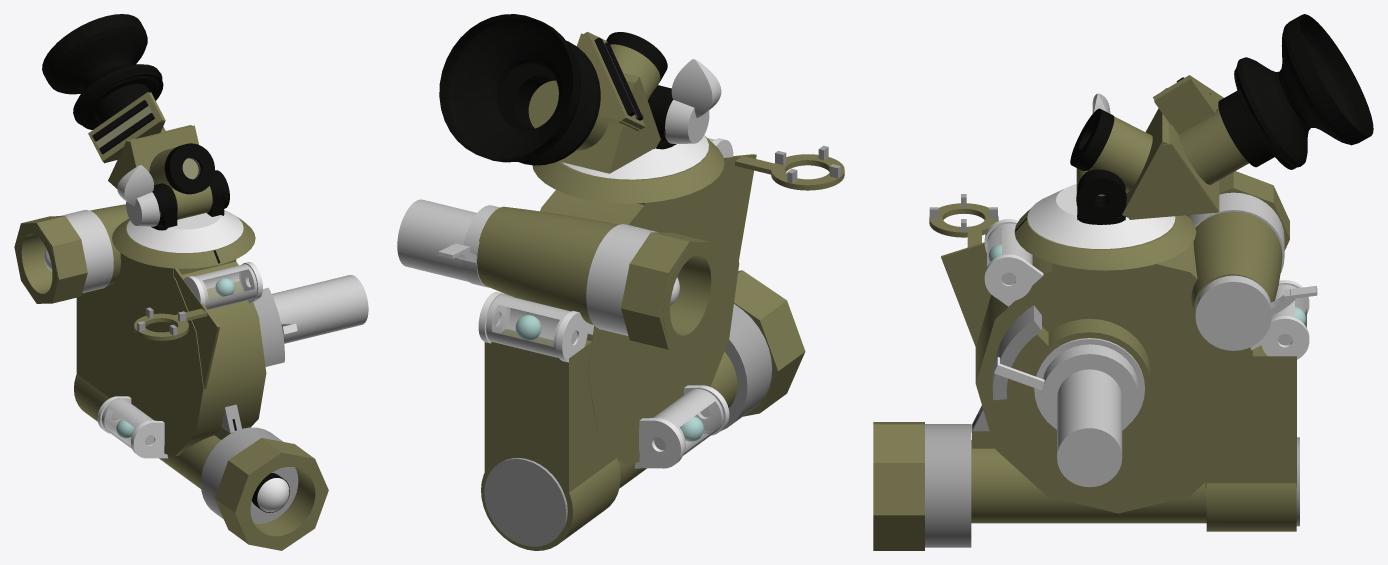
The model's file is прицел финал.fbx.
The picture shows the model from 3 angles, left to right: view 1: azimuth 30°, elevation 25°; view 2: azimuth 150°, elevation 25°; view 3: azimuth 270°, elevation 25°; orthographic projection. The views are drawn at different scales.
Visible parts, largest first — view 1: Объект_Цилиндр_3_2, Объект_Труба_1_2, Объект_Цилиндр_2, Объект_Труба_10, Объект_Труба_9, Объект_Цилиндр_8, Объект_Цилиндр_7, Объект_Труба_16, Объект_Цилиндр_3_3, Объект_Цилиндр_12, Объект_Труба_17, Объект_Куб_5_2 (+27 smaller); view 2: Объект_Цилиндр_3_2, Объект_Труба_1_2, Объект_Куб_12, Объект_Цилиндр_6, Объект_Цилиндр_2_3, Объект_Труба_16, Объект_Цилиндр_3_3, Объект_Труба_9, Объект_Цилиндр_2, Объект_Цилиндр_12, Объект_Труба_17, Объект_Цилиндр_7 (+26 smaller); view 3: Объект_Цилиндр_3_2, Объект_Труба_1_2, Объект_Куб_12, Объект_Цилиндр_1_6, Объект_Цилиндр_2, Объект_Труба_9, Объект_Цилиндр_7, Объект_Цилиндр_6, Объект_Куб_5_2, Объект_Цилиндр_1_2, Объект_Цилиндр_8, Объект_Цилиндр_3_3 (+20 smaller).
Boxes of the visible parts, box(x1,y1,x2,y2) form: Объект_Цилиндр_3_2: box(90, 253, 266, 456); Объект_Труба_1_2: box(42, 14, 162, 127); Объект_Цилиндр_2: box(272, 275, 368, 343); Объект_Труба_10: box(240, 456, 325, 546); Объект_Труба_9: box(214, 438, 328, 550); Объект_Цилиндр_8: box(126, 210, 243, 252); Объект_Цилиндр_7: box(200, 427, 298, 523); Объект_Труба_16: box(14, 216, 87, 303); Объект_Цилиндр_3_3: box(112, 216, 255, 268); Объект_Цилиндр_12: box(61, 210, 113, 293); Объект_Труба_17: box(17, 224, 57, 302); Объект_Куб_5_2: box(108, 125, 198, 188); Объект_Цилиндр_3_2: box(540, 183, 739, 465); Объект_Труба_1_2: box(439, 14, 600, 165); Объект_Куб_12: box(484, 329, 617, 498); Объект_Цилиндр_6: box(477, 206, 618, 324); Объект_Цилиндр_2_3: box(484, 458, 567, 546); Объект_Труба_16: box(621, 232, 719, 349); Объект_Цилиндр_3_3: box(532, 135, 724, 203); Объект_Труба_9: box(734, 270, 805, 416); Объект_Цилиндр_2: box(397, 199, 476, 281); Объект_Цилиндр_12: box(586, 224, 657, 335); Объект_Труба_17: box(663, 243, 717, 347); Объект_Цилиндр_7: box(721, 304, 772, 430); Объект_Цилиндр_3_2: box(975, 242, 1252, 513); Объект_Труба_1_2: box(1235, 14, 1373, 167); Объект_Куб_12: box(1205, 345, 1296, 488); Объект_Цилиндр_1_6: box(971, 440, 1206, 523); Объект_Цилиндр_2: box(1057, 369, 1122, 487); Объект_Труба_9: box(873, 422, 924, 550); Объект_Цилиндр_7: box(925, 424, 971, 547); Объект_Цилиндр_6: box(1191, 211, 1282, 319); Объект_Куб_5_2: box(1122, 108, 1219, 219); Объект_Цилиндр_1_2: box(1195, 275, 1271, 350); Объект_Цилиндр_8: box(1027, 184, 1175, 248); Объект_Цилиндр_3_3: box(1014, 209, 1196, 270).
Bounding box in the file's own units: 112 × 165 × 143.
